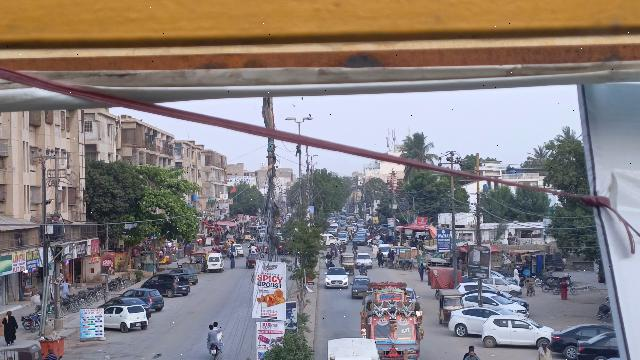Bike: (208, 342, 223, 360)
Bus: (356, 286, 425, 360)
Car: (481, 314, 556, 348), (549, 318, 609, 360), (446, 306, 507, 339), (141, 272, 194, 300), (103, 304, 149, 332), (576, 329, 617, 360), (122, 287, 166, 313), (100, 296, 151, 316), (323, 265, 350, 290), (350, 273, 373, 299)
Person: (1, 307, 20, 346), (534, 341, 552, 360), (211, 320, 224, 343), (206, 323, 217, 344)
Rickshaw: (435, 287, 466, 326)
Truck: (326, 337, 381, 360)
Van: (205, 252, 226, 273)
